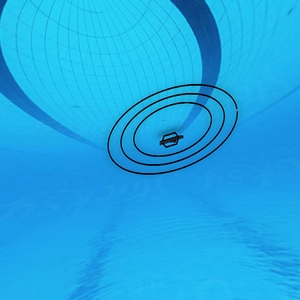submarine: (158, 131, 185, 148)
